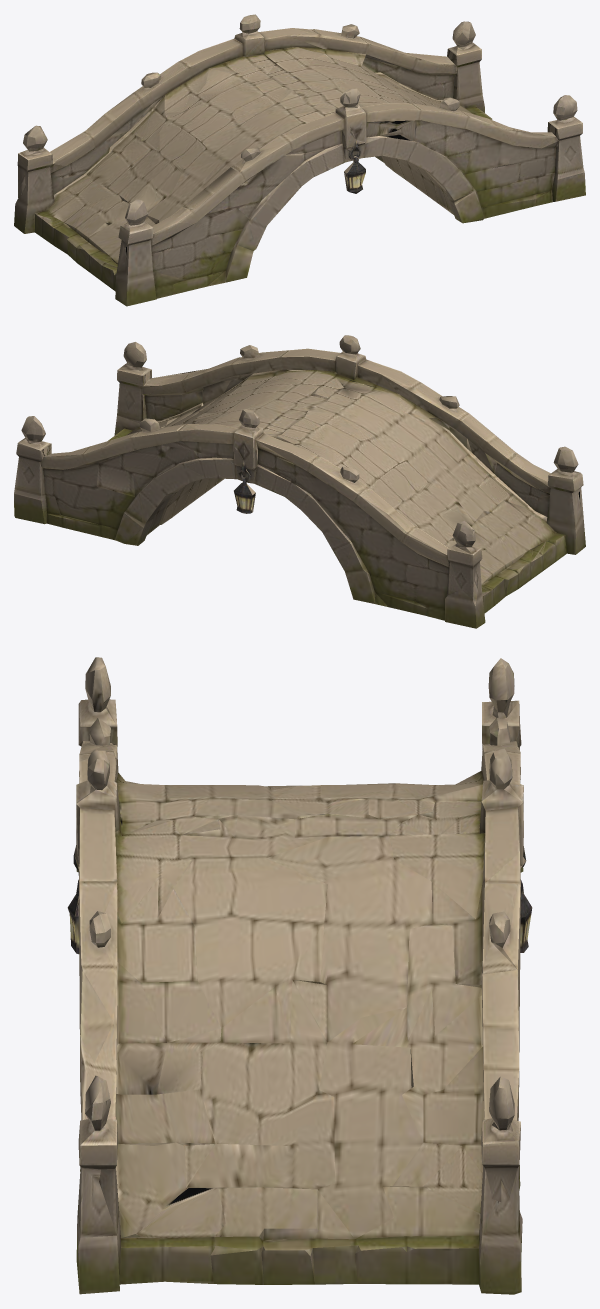
File: bridge-arch.glb
3 views of the same model, one above another, from view 1: azimuth 30°, elevation 25°; view 2: azimuth 150°, elevation 25°; view 3: azimuth 270°, elevation 25° (orthographic). The views are drawn at different scales.
Parts seen in each view (by area): view 1: output_unwrapped; view 2: output_unwrapped; view 3: output_unwrapped.
Boxes of the visible parts, x1,y1,x2,y2 form: output_unwrapped: [14, 14, 585, 306]; output_unwrapped: [14, 335, 585, 628]; output_unwrapped: [67, 657, 532, 1294].
Bounding box in the file's own units: 1.9 × 0.6267 × 0.826.
1 material, 1 textured.
